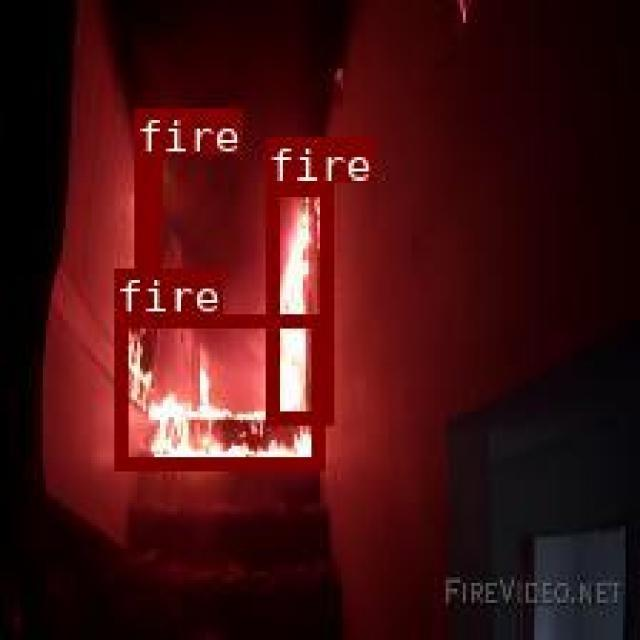fire: (114, 314, 322, 468), (266, 183, 329, 421), (132, 154, 158, 293)
